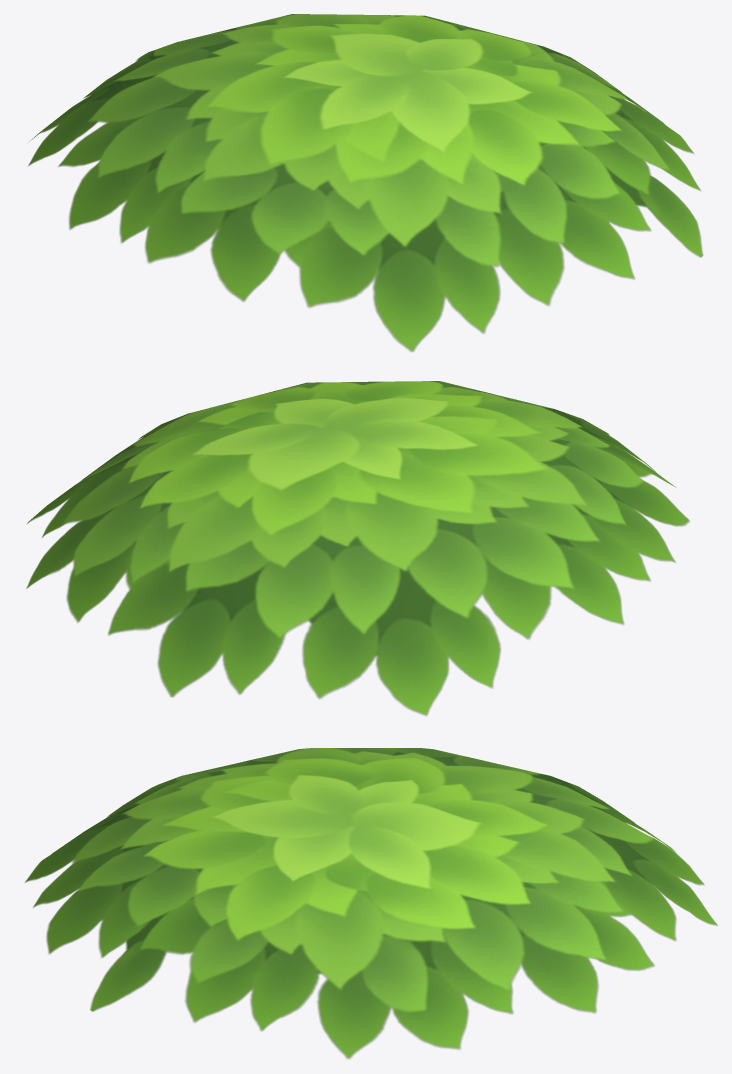
Rendered from stylized_bush.glb.
The picture shows the model from 3 angles, top to bottom: view 1: azimuth 30°, elevation 25°; view 2: azimuth 150°, elevation 25°; view 3: azimuth 270°, elevation 25°; orthographic projection. The views are drawn at different scales.
Parts seen in each view (by area): view 1: StylizedBushLowerLeft; view 2: StylizedBushLowerLeft; view 3: StylizedBushLowerLeft.
Boxes of the visible parts, bbox=[...] form: StylizedBushLowerLeft: bbox=[28, 14, 703, 351]; StylizedBushLowerLeft: bbox=[26, 381, 689, 715]; StylizedBushLowerLeft: bbox=[25, 748, 717, 1058].
Bounding box in the file's own units: 1.14 × 0.2237 × 1.22.
Materials: 1 (1 with a texture image).
